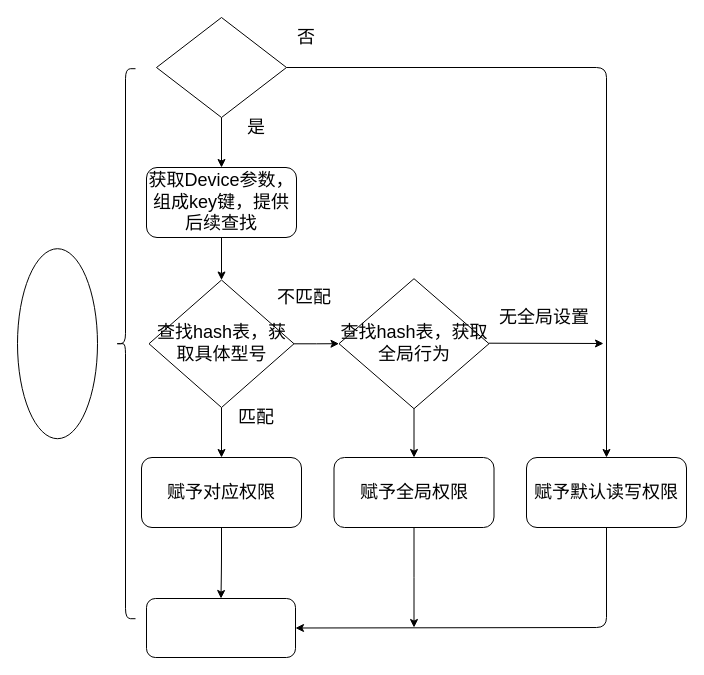
This 704x675 diagram has some shape labels left out. The centre of each missing label's shape, as x and y in pixels:
"挂载 （只读/读写/拒绝）" belongs at [221,628].
"挂载阶段" belongs at [57,343].
"是否为移动存储介质" belongs at [221,67].
